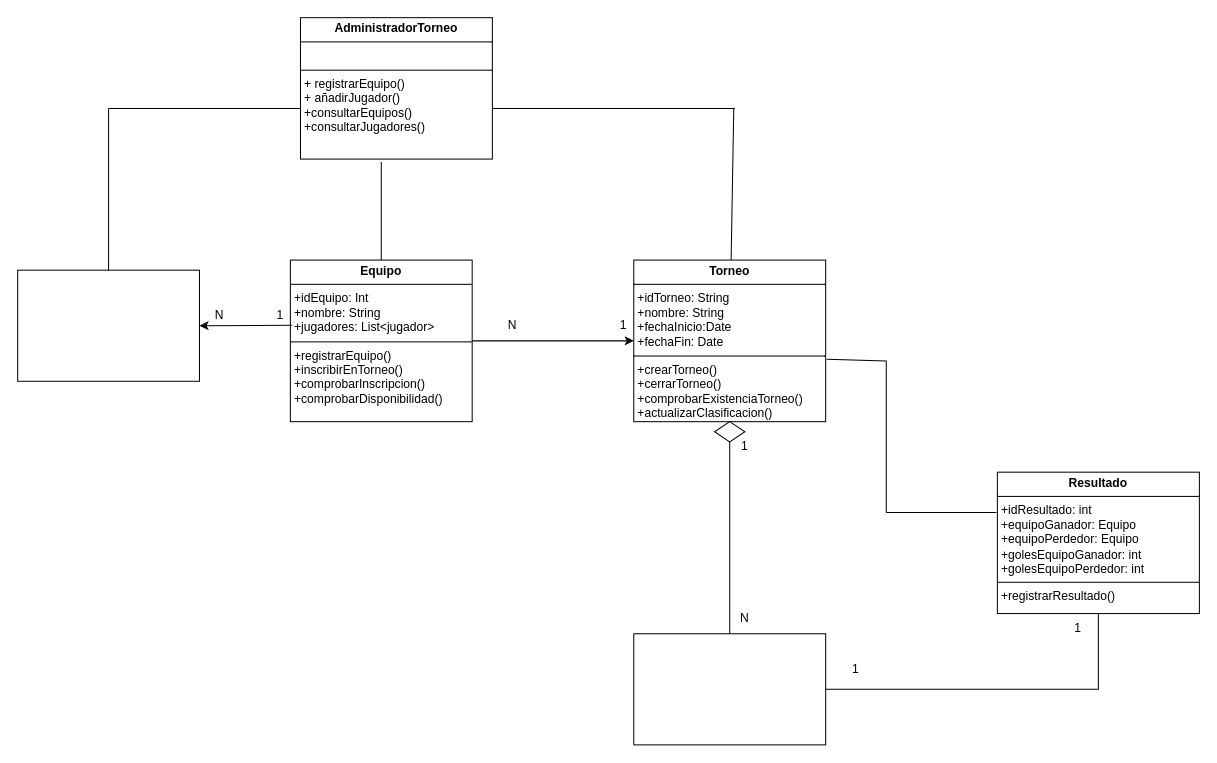
This 1217x763 diagram has some shape labels left out. The centre of each missing label's shape, as x and y in pixels:
"Jugador +idJugador: int +nombre: string +posicion: string +añadirJugador()" belongs at point 108,325.
"Partido +idPartido: String +equipoA: Equipo +equipoB:Equipo +generarPartido()" belongs at point 729,689.
